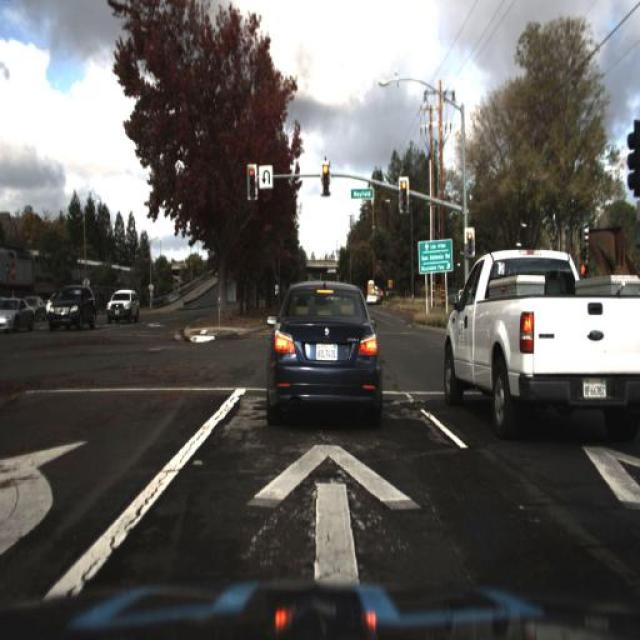car: (440, 239, 640, 427), (264, 282, 382, 418), (50, 285, 96, 330), (0, 295, 42, 335), (0, 294, 34, 334), (106, 285, 140, 323)
trafficLight-RedLeft: (462, 223, 478, 268), (397, 179, 409, 219), (319, 162, 330, 194), (464, 227, 474, 259)
trafficLight-Yellow: (244, 158, 260, 210), (246, 165, 259, 199)
